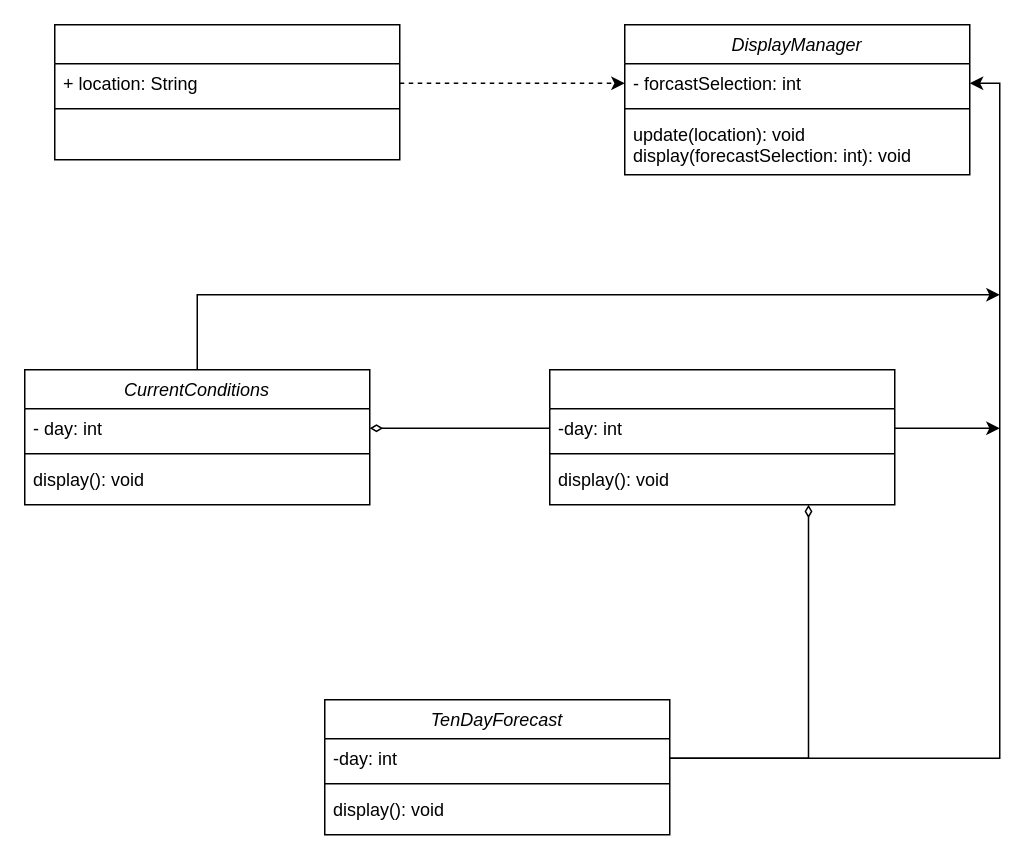
This 1025x860 diagram has some shape labels left out. Each missing label, with the box of its shape:
FiveDayForecast: (548, 368, 895, 505)
User: (53, 23, 400, 160)
